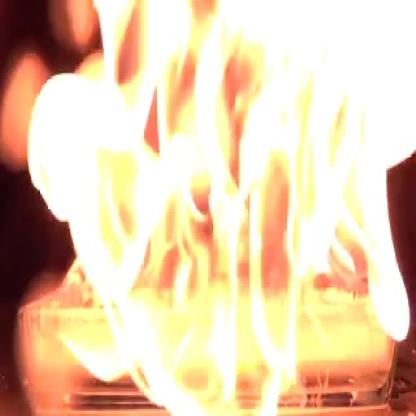fire: (24, 0, 416, 416)
